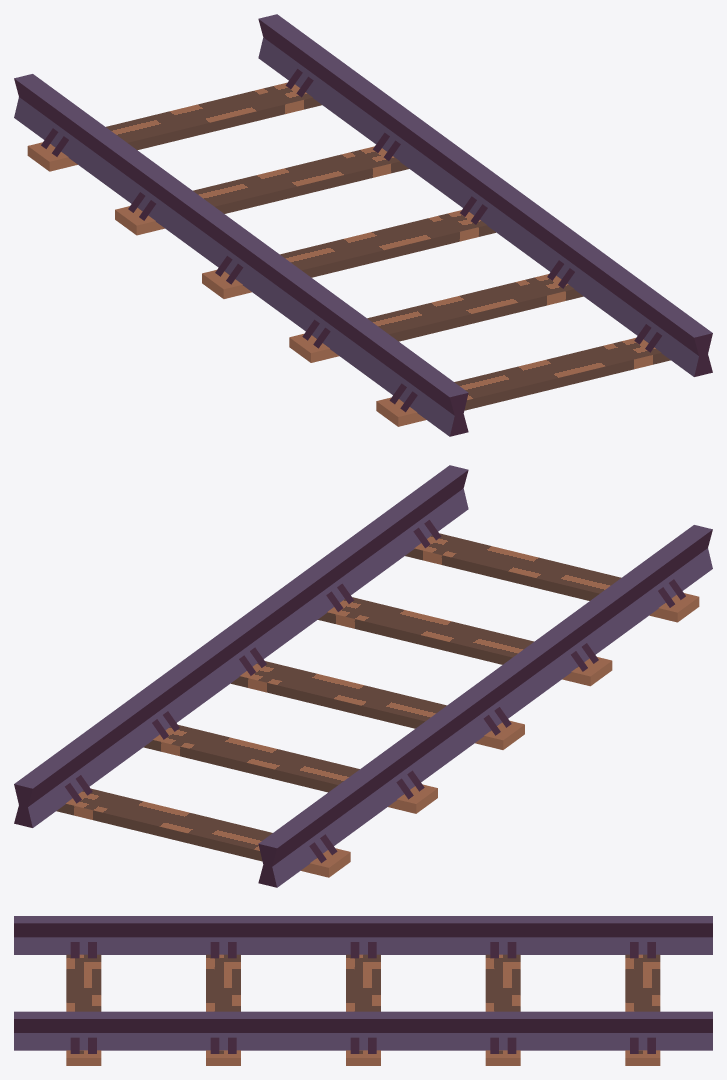
File: track_straight_ballastless.glb
3 renders of one model, top to bottom at view 1: azimuth 30°, elevation 25°; view 2: azimuth 150°, elevation 25°; view 3: azimuth 270°, elevation 25°, orthographic. The views are drawn at different scales.
Parts seen in each view (by area): view 1: track_straight; view 2: track_straight; view 3: track_straight.
Part boxes in pixels (bbox=[...]): track_straight: bbox=[14, 14, 712, 436]; track_straight: bbox=[14, 465, 712, 887]; track_straight: bbox=[14, 916, 712, 1065].
Size of the model in its own units: 2 by 0.3088 by 5.
Materials: 1 (1 with a texture image).
